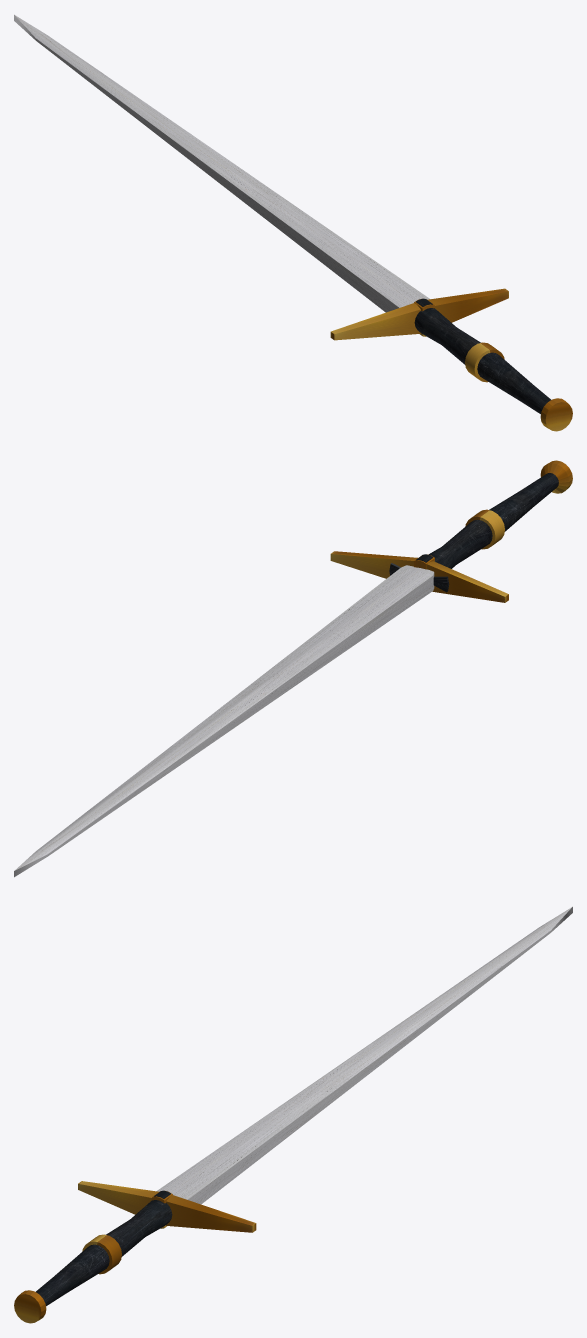
File: great_sword.fbx
The picture shows the model from 3 angles, top to bottom: view 1: azimuth 30°, elevation 25°; view 2: azimuth 150°, elevation 25°; view 3: azimuth 330°, elevation 25°; orthographic projection.
Parts seen in each view (by area): view 1: great_sword; view 2: great_sword; view 3: great_sword.
Boxes of the visible parts, x1,y1,x2,y2 form: great_sword: [14, 14, 572, 431]; great_sword: [14, 460, 572, 877]; great_sword: [14, 906, 572, 1323].
Bounding box in the file's own units: 8 × 1.41 × 43.26.
Materials: 3 (3 with a texture image).
